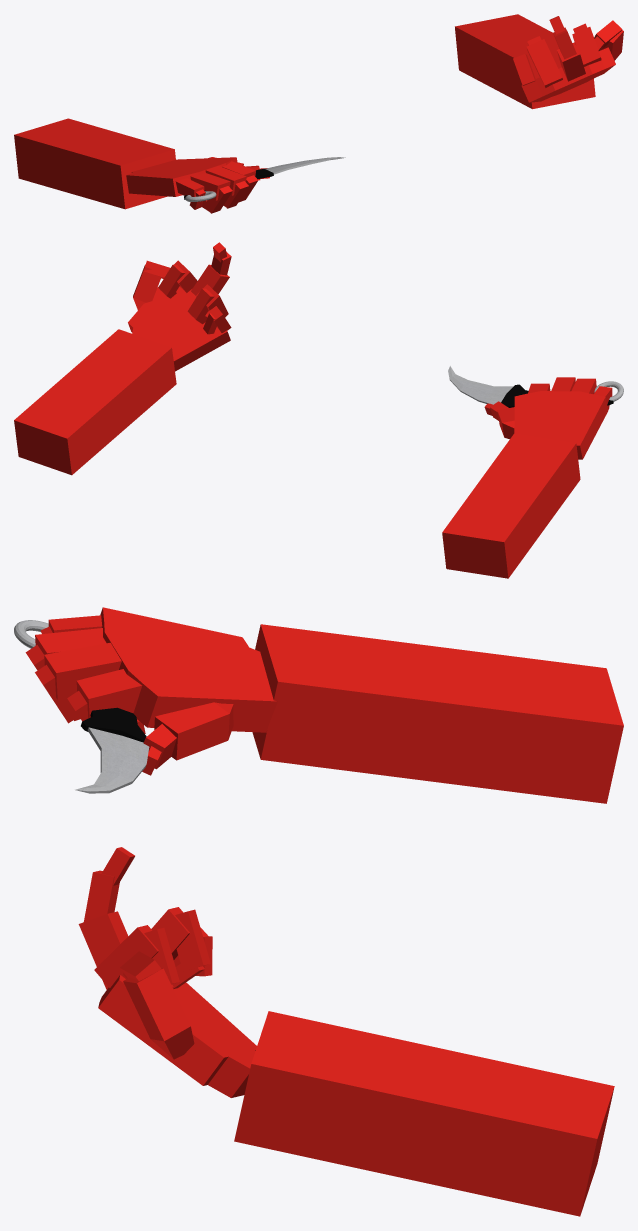
Rendered from karambit.glb.
3 renders of one model, top to bottom at view 1: azimuth 30°, elevation 25°; view 2: azimuth 150°, elevation 25°; view 3: azimuth 270°, elevation 25°, orthographic. The views are drawn at different scales.
Visible parts, largest first — view 1: Cube.279, Cube.283, Cube.266; view 2: Cube.283, Cube.279, Cube.266; view 3: Cube.279, Cube.283, Cube.266, Cube.265.
Part boxes in pixels (x1,y1,x2,y2): Cube.279: [14, 118, 269, 213]; Cube.283: [455, 14, 623, 109]; Cube.266: [185, 157, 345, 201]; Cube.283: [14, 242, 231, 475]; Cube.279: [442, 377, 612, 578]; Cube.266: [448, 366, 623, 404]; Cube.279: [25, 607, 623, 803]; Cube.283: [78, 847, 614, 1216]; Cube.266: [14, 620, 149, 793]; Cube.265: [81, 707, 146, 742].
Bounding box in the file's own units: 1.6 × 0.4626 × 0.8753.
3 materials, 1 textured.
